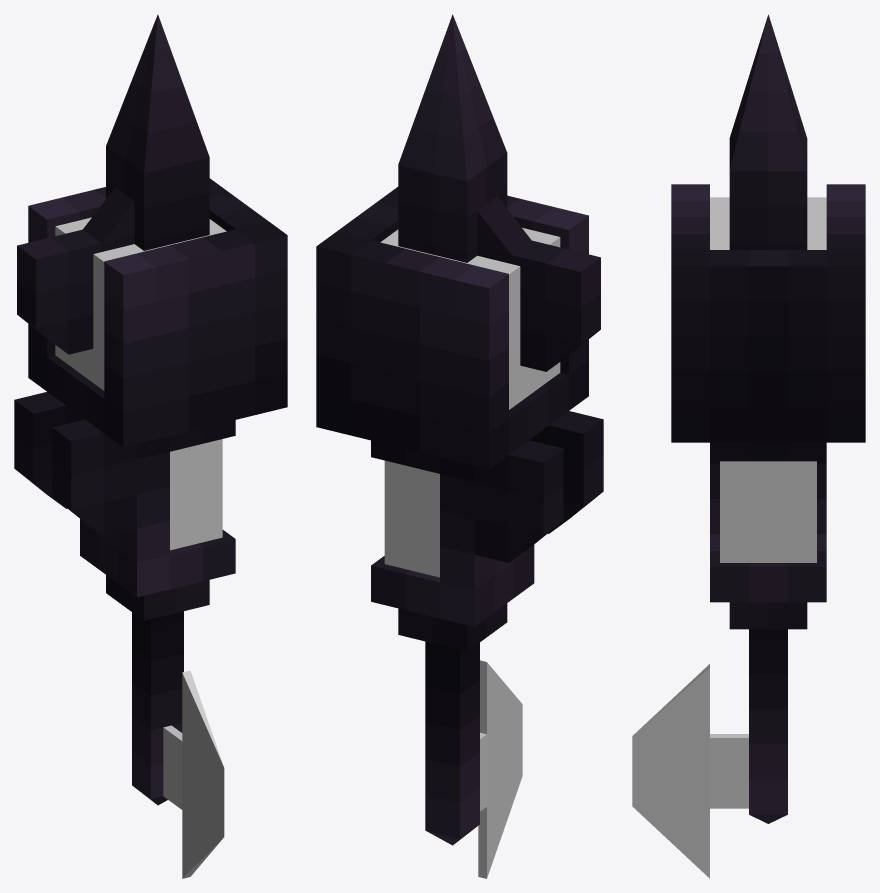
The model's file is arm_axe_l.obj.
The picture shows the model from 3 angles, left to right: view 1: azimuth 30°, elevation 25°; view 2: azimuth 150°, elevation 25°; view 3: azimuth 270°, elevation 25°; orthographic projection. The views are drawn at different scales.
Parts seen in each view (by area): view 1: ARM_LEFT_AXE.OBSVAR_Cube.320, ARM_LEFT_DECO_OBSIDIAN_Cube.362; view 2: ARM_LEFT_AXE.OBSVAR_Cube.320, ARM_LEFT_DECO_OBSIDIAN_Cube.362; view 3: ARM_LEFT_AXE.OBSVAR_Cube.320, ARM_LEFT_DECO_OBSIDIAN_Cube.362.
Part boxes in pixels (<box>): ARM_LEFT_AXE.OBSVAR_Cube.320: <box>28,178,287,878</box>; ARM_LEFT_DECO_OBSIDIAN_Cube.362: <box>14,14,209,536</box>; ARM_LEFT_AXE.OBSVAR_Cube.320: <box>316,187,588,878</box>; ARM_LEFT_DECO_OBSIDIAN_Cube.362: <box>398,14,603,562</box>; ARM_LEFT_AXE.OBSVAR_Cube.320: <box>632,184,865,878</box>; ARM_LEFT_DECO_OBSIDIAN_Cube.362: <box>729,14,807,249</box>.
Size of the model in its own units: 0.4062 by 1.53 by 0.375.
